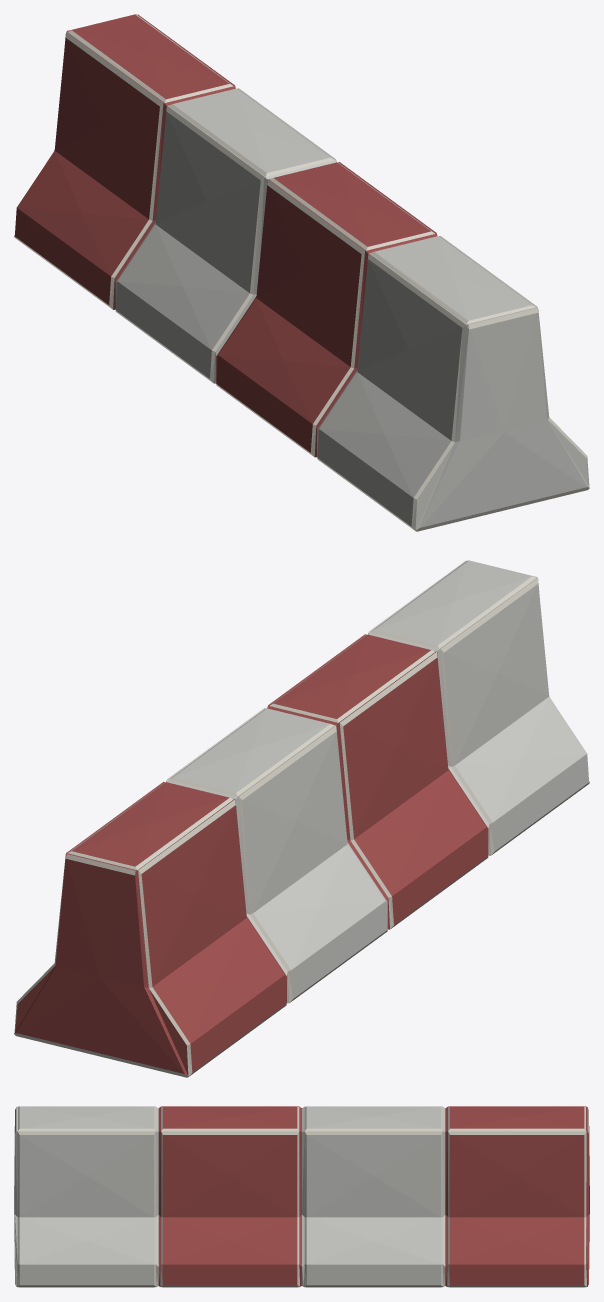
The model's file is safety_barrier.glb.
3 views of the same model, one above another, from view 1: azimuth 30°, elevation 25°; view 2: azimuth 150°, elevation 25°; view 3: azimuth 270°, elevation 25° (orthographic). The views are drawn at different scales.
Visible parts, largest first — view 1: Body.009; view 2: Body.009; view 3: Body.009.
Part boxes in pixels (x1,y1,x2,y2): Body.009: [14, 14, 589, 531]; Body.009: [14, 560, 589, 1077]; Body.009: [14, 1106, 589, 1287].
Bounding box in the file's own units: 0.76 × 0.82 × 3.
